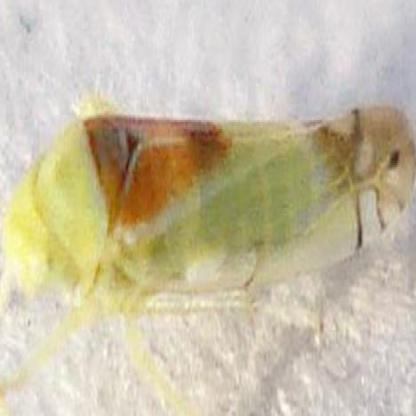green-leafhopper: (10, 105, 410, 302)
